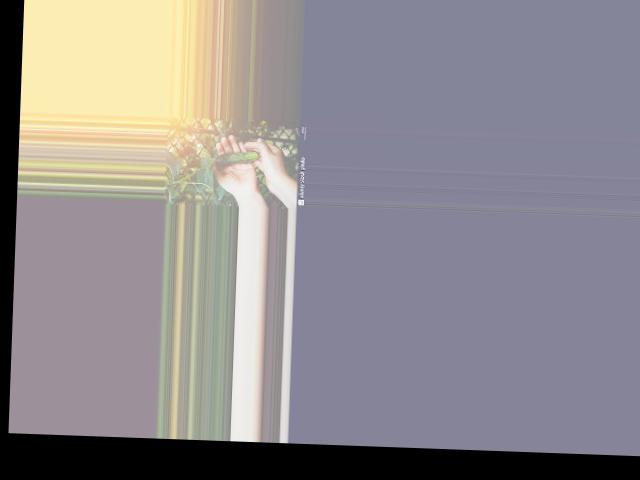cucumber: (215, 149, 259, 167)
